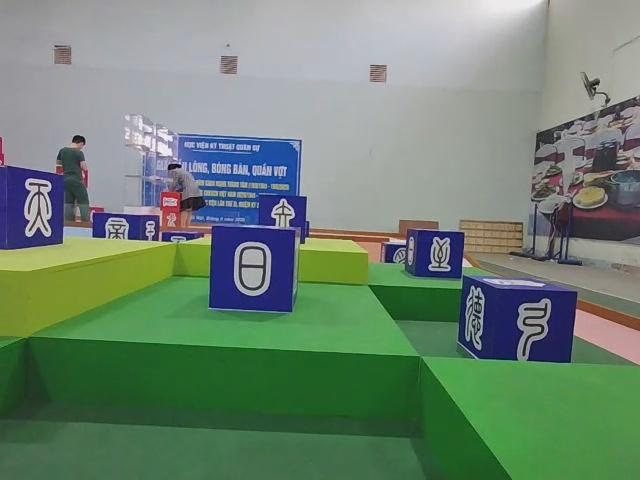R2 Fake Blue: (461, 277, 581, 366), (209, 225, 303, 316), (0, 168, 63, 253), (405, 230, 464, 281), (257, 194, 308, 244), (257, 195, 308, 243), (92, 211, 160, 241), (378, 242, 406, 266)
